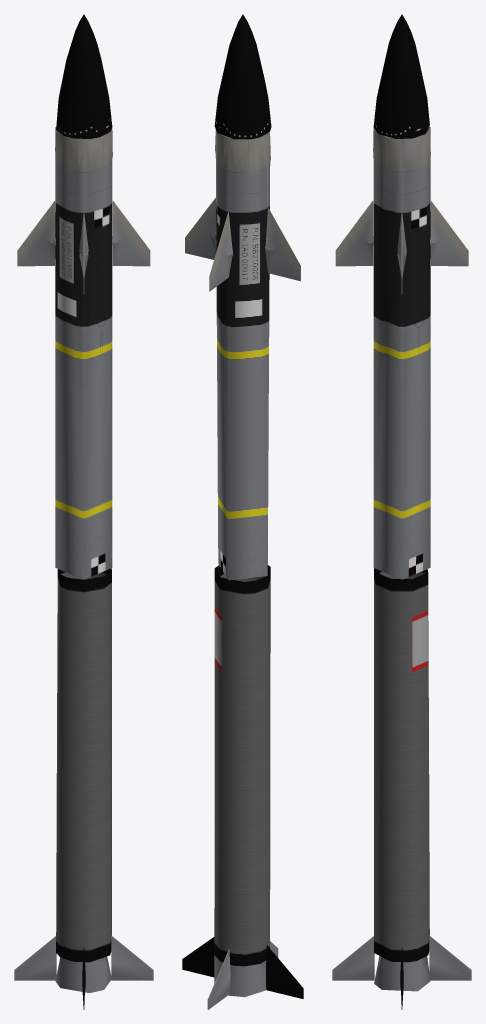
The picture shows the model from 3 angles, left to right: view 1: azimuth 90°, elevation 25°; view 2: azimuth 150°, elevation 25°; view 3: azimuth 270°, elevation 25°; orthographic projection.
Bounding box in the file's own units: 0.391 × 3 × 0.391.
3 materials, 3 textured.
